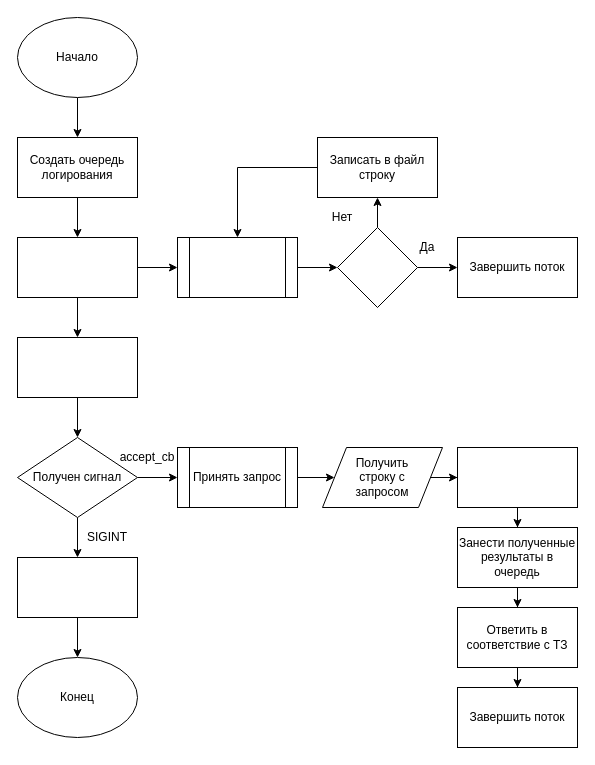
Image size: 595x765. Some labels were removed from this diagram. Each missing label, with the centre of its shape:
"Завершение работы программы" belongs at point 77,587.
"Получить строку из очереди" belongs at point 237,267.
"Распарсить строку" belongs at point 517,477.
"Создать 4 потока для логирования и файлы для записи" belongs at point 77,267.
"Создать сокет и начать прослушивать его" belongs at point 77,367.
"Строка пустая" belongs at point 377,267.
